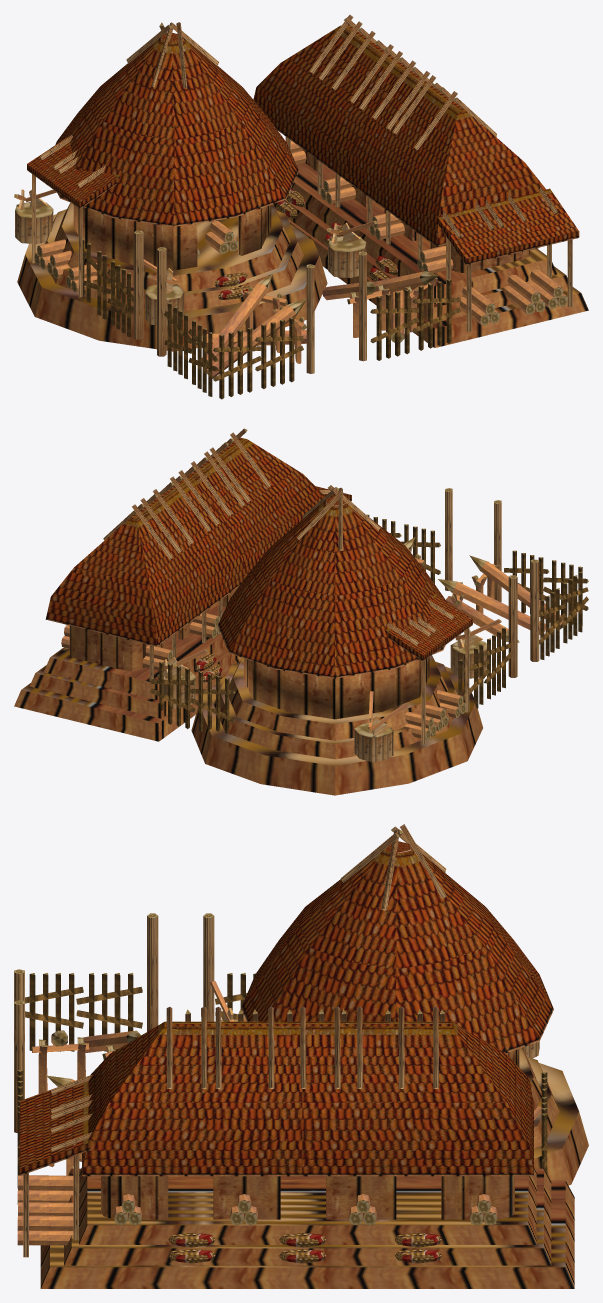
Rendered from arsenal.dae.
3 views of the same model, one above another, from view 1: azimuth 30°, elevation 25°; view 2: azimuth 150°, elevation 25°; view 3: azimuth 270°, elevation 25° (orthographic). The views are drawn at different scales.
Visible parts, largest first — view 1: arsenal.001; view 2: arsenal.001; view 3: arsenal.001.
Part boxes in pixels (x1,y1,x2,y2): arsenal.001: [14, 14, 588, 399]; arsenal.001: [14, 428, 588, 795]; arsenal.001: [14, 824, 588, 1288].
Bounding box in the file's own units: 35.09 × 35.13 × 21.29.
